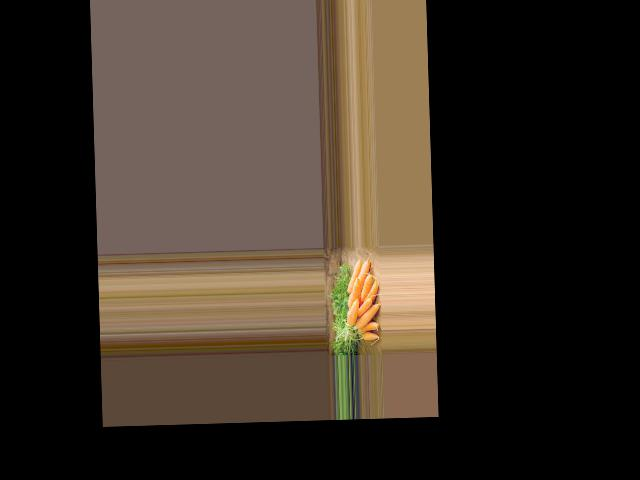carrot: (360, 331, 378, 342)
